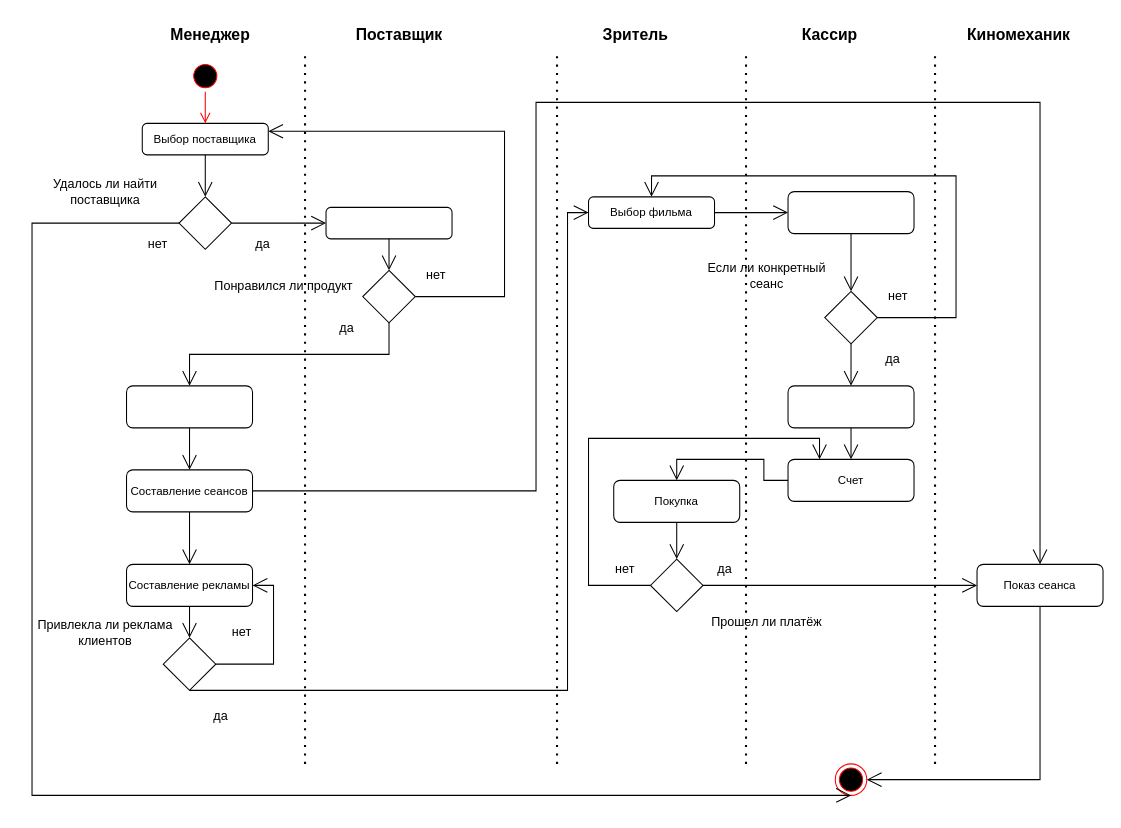
The diagram is 1121 pixels wide and 828 high, and some of its shapes have lost their labels. Here are the shapes that lost their labels. From the top down, the centre of each, then its label:
At point 388,222: "Демонстрация продукта".
At point 850,212: "Проверка на наличие сеансов".
At point 189,406: "Покупка фильмов".
At point 850,406: "Бронирование".
